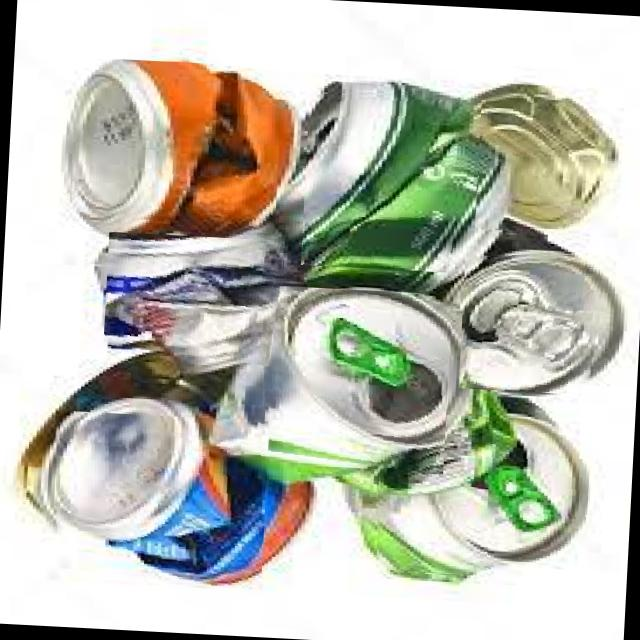Cans: (45, 410, 268, 598), (65, 56, 282, 235), (250, 285, 451, 477), (370, 411, 591, 583), (300, 85, 469, 273), (102, 232, 285, 367), (458, 247, 608, 396), (473, 100, 586, 238)
